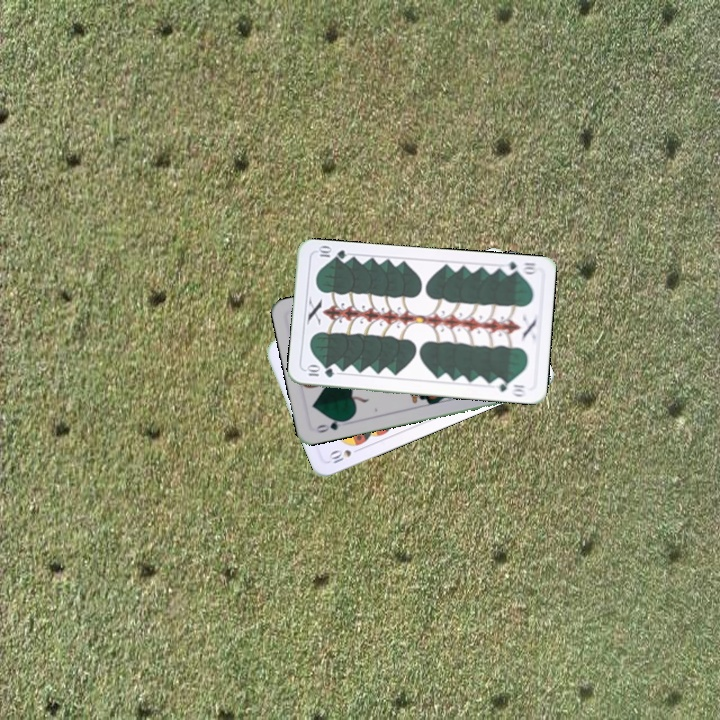G10: (499, 258, 540, 278), (302, 363, 337, 380)
GO: (313, 415, 350, 435)
S10: (325, 444, 364, 467)
